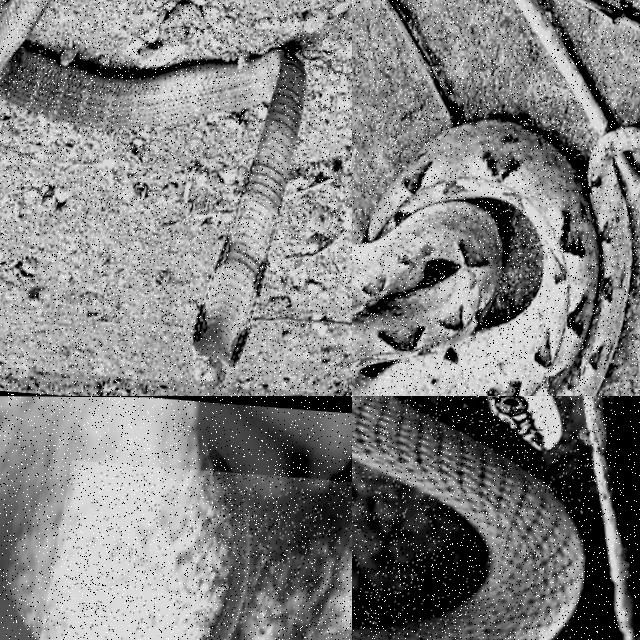Calloselasma rhodostoma: (352, 119, 639, 395)
Chrysopelea ornata: (352, 396, 583, 639)
Ophiophagus hannah: (0, 0, 306, 383)
Trimeresurus macrops: (210, 471, 251, 639)
